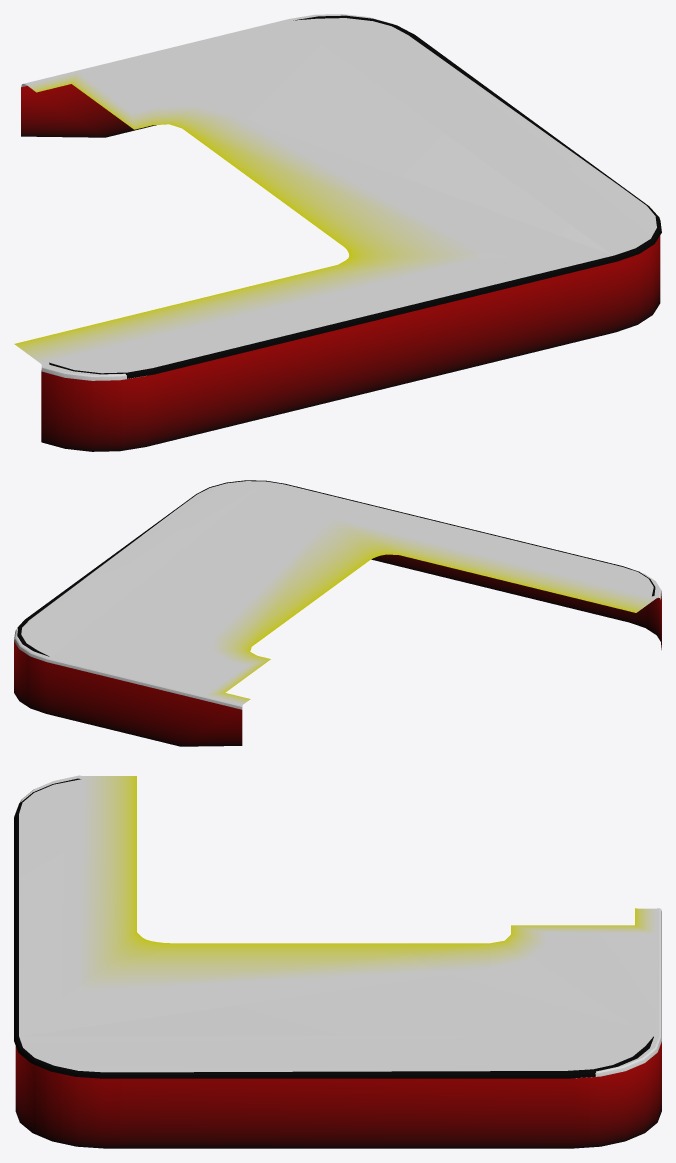
Rendered from m_water.fbx.
3 views of the same model, one above another, from view 1: azimuth 30°, elevation 25°; view 2: azimuth 150°, elevation 25°; view 3: azimuth 270°, elevation 25° (orthographic). The views are drawn at different scales.
Visible parts, largest first — view 1: water_surface, water_side, water_foam; view 2: water_surface, water_side, water_foam; view 3: water_surface, water_side, water_foam.
Boxes of the visible parts, x1,y1,x2,y2 form: water_surface: (14,14,656,380); water_side: (21,84,660,451); water_foam: (49,15,661,378); water_surface: (14,481,661,709); water_side: (14,554,661,746); water_foam: (17,480,655,656); water_surface: (19,775,661,1078); water_side: (15,1041,661,1148); water_foam: (14,778,653,1078).
Bounding box in the file's own units: 1099 × 128 × 1003.
